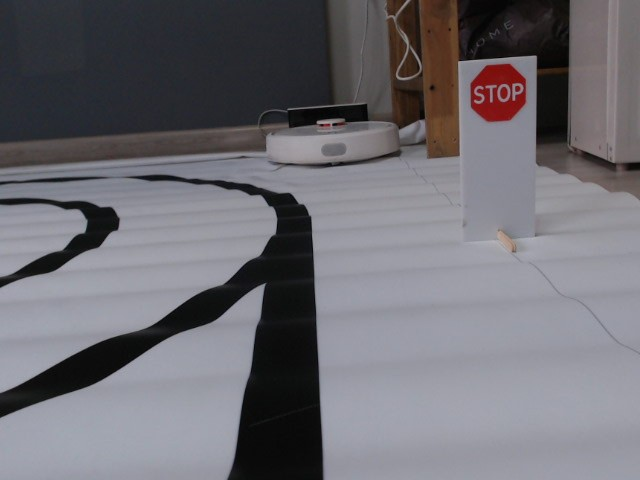Stop: (470, 63, 527, 123)
